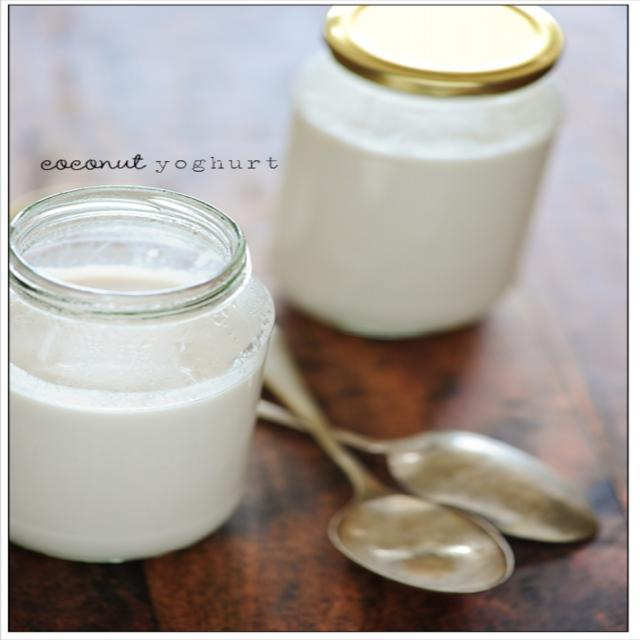Milk: (0, 265, 267, 565), (270, 100, 559, 343)
